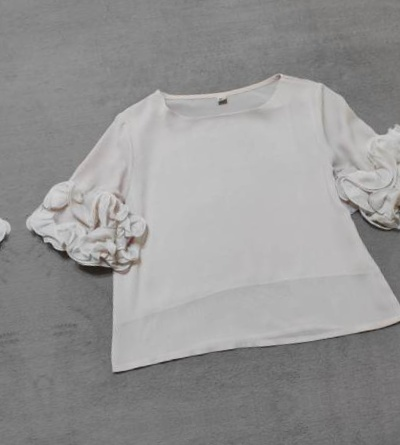Blouse: (7, 32, 400, 401), (0, 100, 36, 445), (68, 417, 400, 445)
